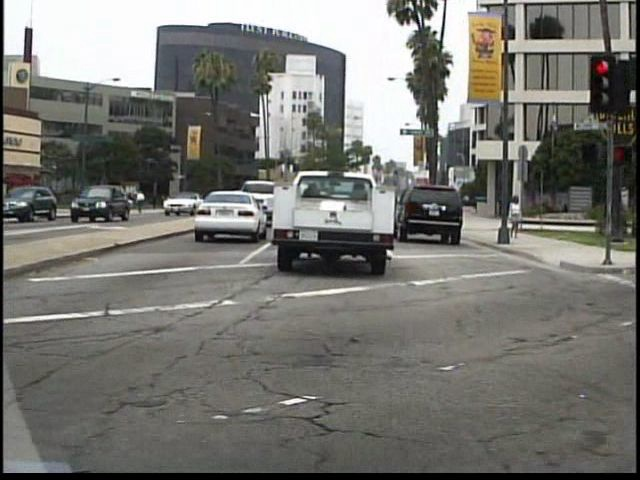person: (506, 190, 524, 240), (134, 186, 150, 218)
